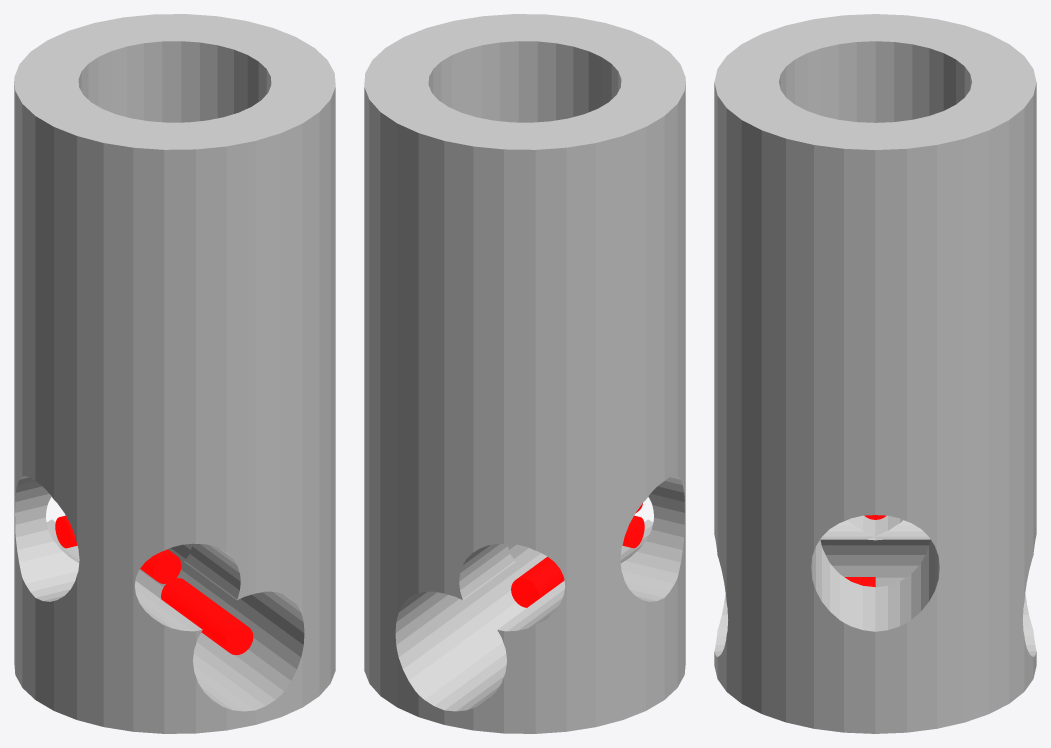
Rendered from LOT130_ce6f623c.glb.
3 renders of one model, left to right at view 1: azimuth 30°, elevation 25°; view 2: azimuth 150°, elevation 25°; view 3: azimuth 270°, elevation 25°, orthographic.
Parts seen in each view (by area): view 1: Cylinder, Cylinder.002, Cylinder.006; view 2: Cylinder, Cylinder.002; view 3: Cylinder.
Part boxes in pixels (box(x1,y1,x2,y2)): Cylinder: box(14, 14, 335, 733); Cylinder.002: box(161, 578, 253, 655); Cylinder.006: box(140, 549, 181, 583); Cylinder: box(364, 14, 685, 733); Cylinder.002: box(511, 556, 564, 607); Cylinder: box(714, 14, 1036, 733).
Bounding box in the file's own units: 1 × 2 × 1.
